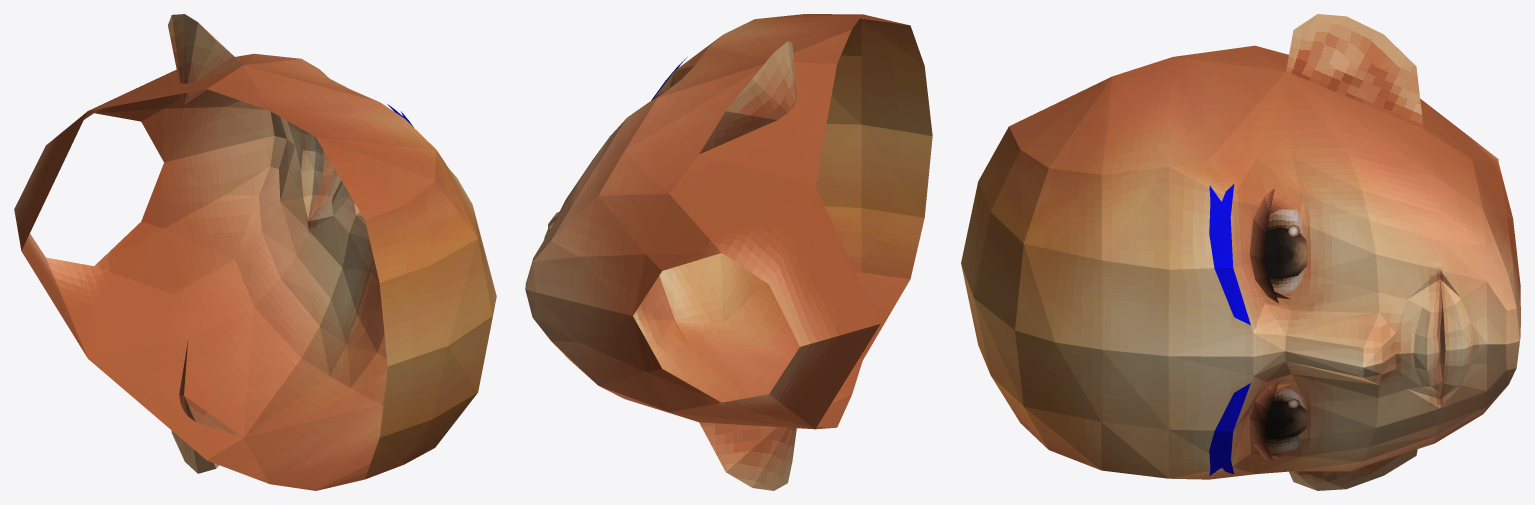
The model's file is Npc_60001.obj.
3 views of the same model, side by side, from view 1: azimuth 30°, elevation 25°; view 2: azimuth 150°, elevation 25°; view 3: azimuth 270°, elevation 25° (orthographic). The views are drawn at different scales.
Parts seen in each view (by area): view 1: Npc_60001; view 2: Npc_60001; view 3: Npc_60001.
Part boxes in pixels (x1,y1,x2,y2): Npc_60001: (14,14,496,490); Npc_60001: (525,14,932,490); Npc_60001: (961,14,1520,490).
Bounding box in the file's own units: 0.3492 × 0.4198 × 0.4466.
2 materials, 1 textured.
